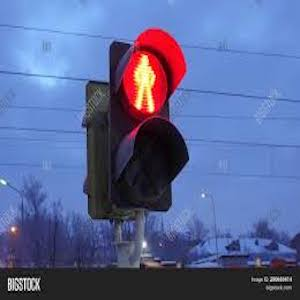red: (132, 51, 157, 112)
